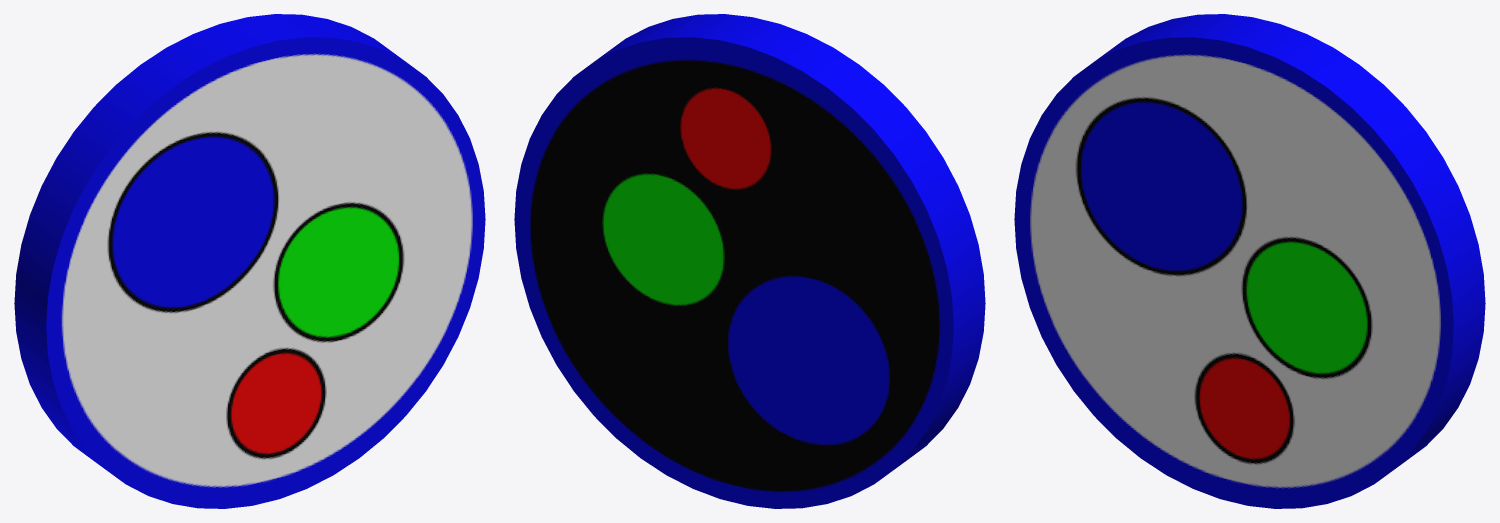
Rendered from IconBalls.fbx.
3 renders of one model, left to right at view 1: azimuth 30°, elevation 25°; view 2: azimuth 150°, elevation 25°; view 3: azimuth 330°, elevation 25°, orthographic.
Parts seen in each view (by area): view 1: pCylinder1; view 2: pCylinder1; view 3: pCylinder1.
Part boxes in pixels (<box>): pCylinder1: <box>14,14,485,508</box>; pCylinder1: <box>514,14,985,508</box>; pCylinder1: <box>1014,14,1485,508</box>.
Size of the model in its own units: 4 by 3.99 by 0.5.
Materials: 1 (1 with a texture image).
